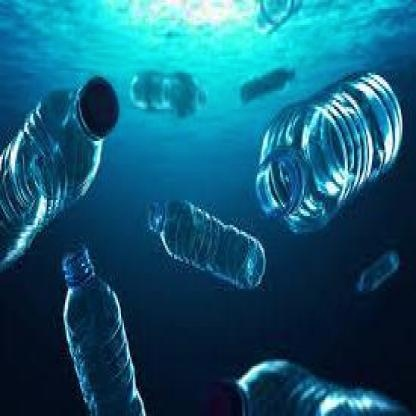pbottle: (251, 59, 406, 239), (2, 54, 121, 270), (42, 241, 158, 416), (198, 343, 416, 416), (142, 193, 266, 305), (124, 52, 213, 125), (228, 52, 295, 109), (345, 245, 404, 302)
